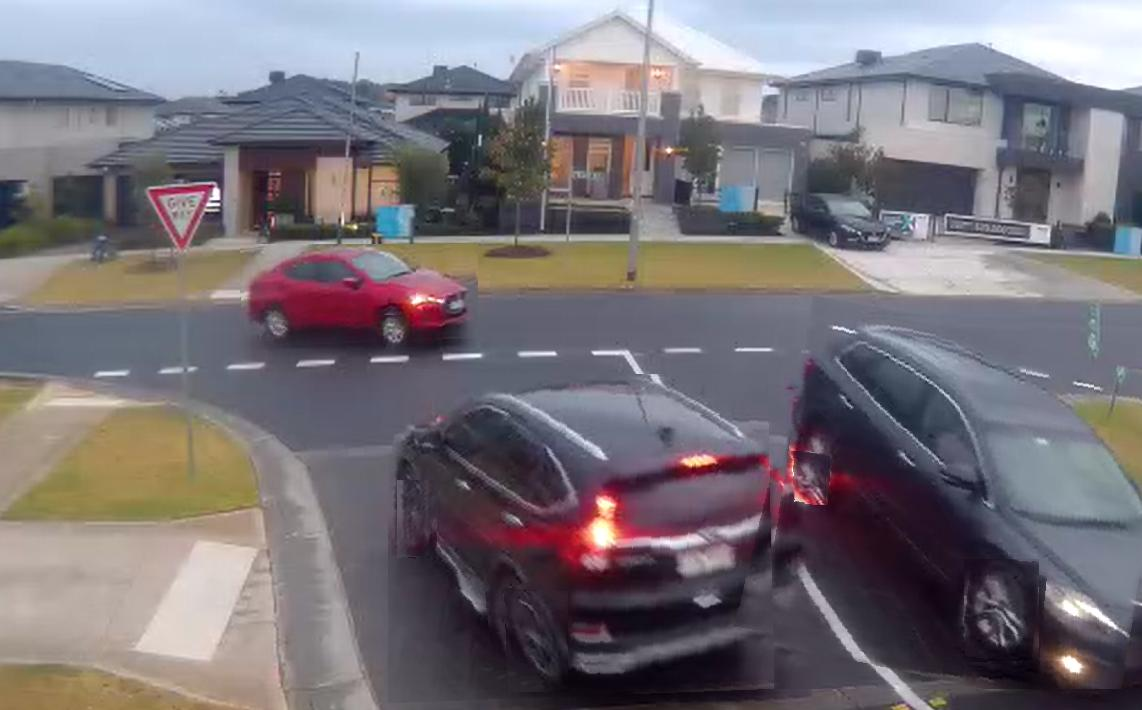VEHICLE TYPE 1: (389, 375, 824, 705), (767, 311, 1142, 690), (242, 246, 480, 349)
wheel: (965, 560, 1040, 663), (505, 590, 569, 694), (398, 482, 440, 560), (793, 452, 828, 504), (259, 306, 291, 342), (377, 317, 411, 349)
